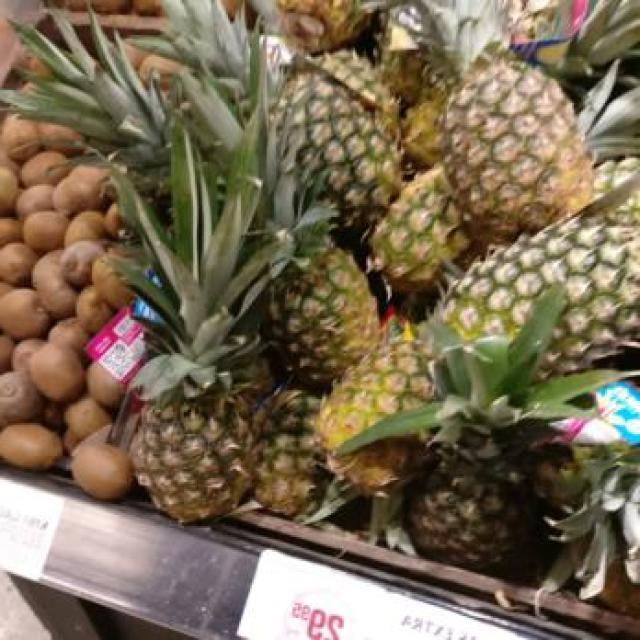pineapple: (340, 288, 628, 576), (120, 114, 295, 522), (414, 1, 591, 247), (438, 191, 640, 372), (274, 50, 402, 243), (264, 236, 380, 388), (316, 325, 434, 449), (370, 164, 470, 292), (255, 390, 329, 517), (199, 110, 249, 192)
